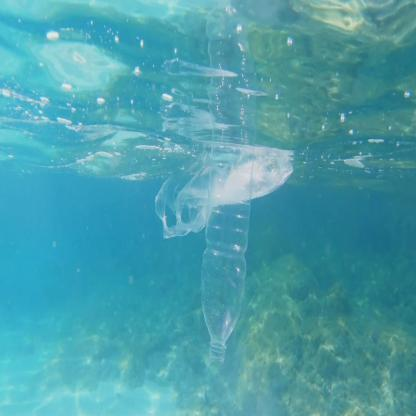Rác: (158, 104, 280, 358)
